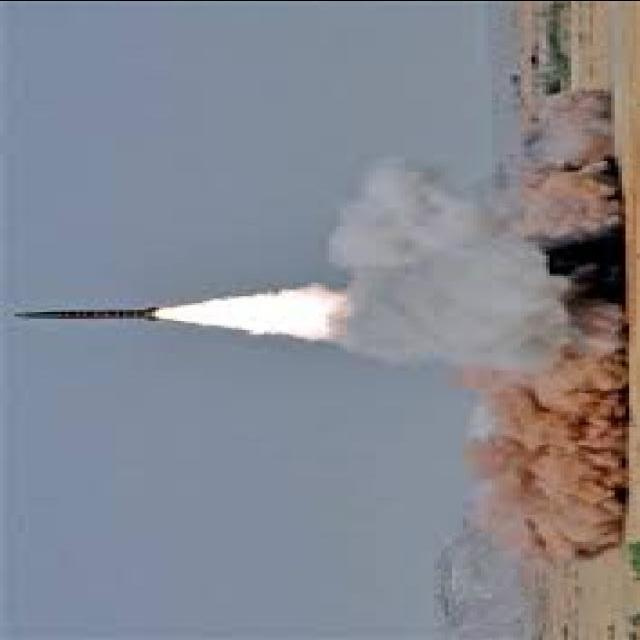Missile: (9, 304, 165, 322)
